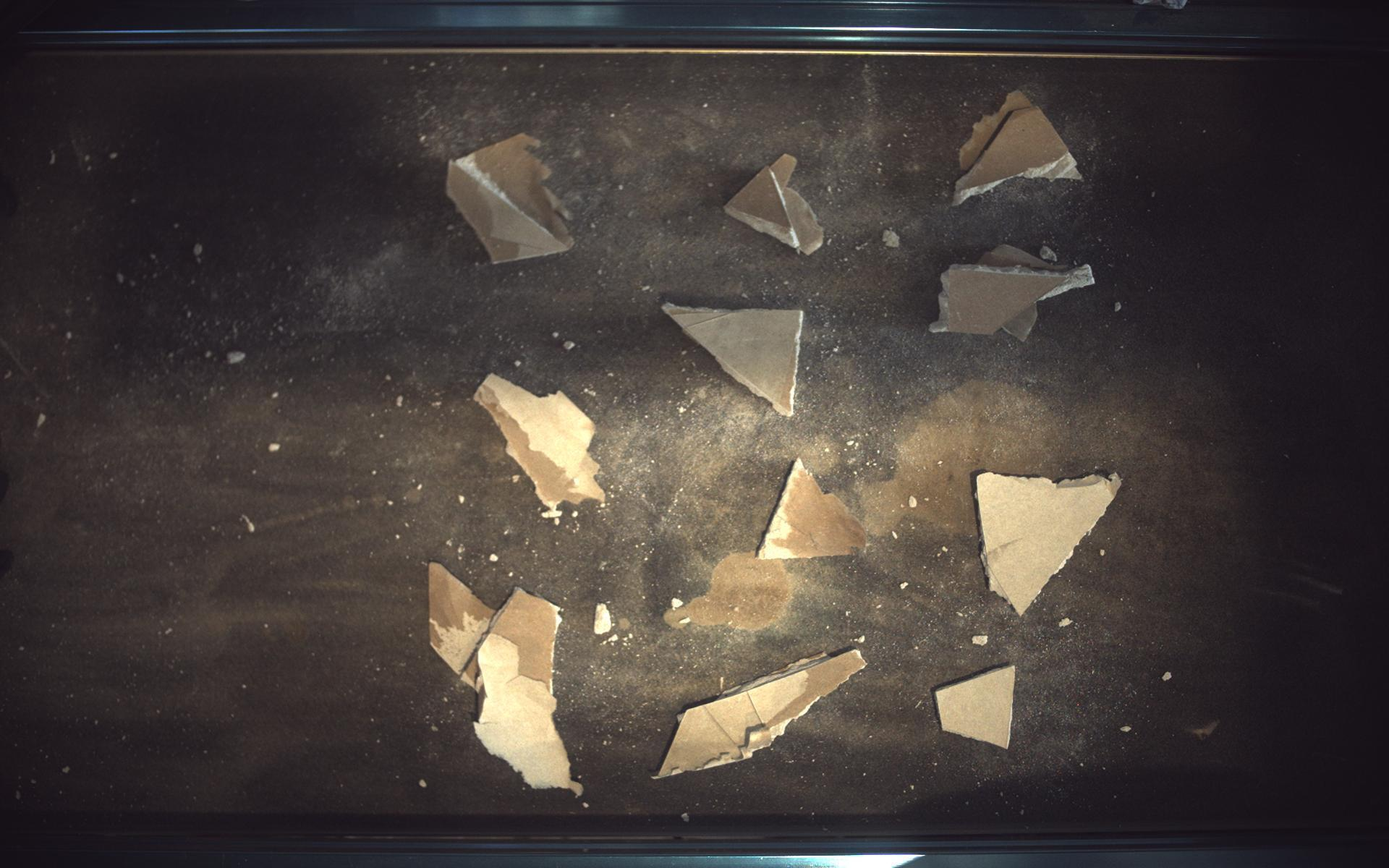gypsum_board: (428, 563, 583, 797), (654, 650, 867, 780), (978, 472, 1123, 616), (474, 373, 606, 509), (447, 132, 574, 263), (663, 302, 804, 416), (933, 244, 1097, 341), (954, 90, 1084, 205), (758, 459, 867, 560), (725, 153, 825, 254), (937, 666, 1017, 750)
